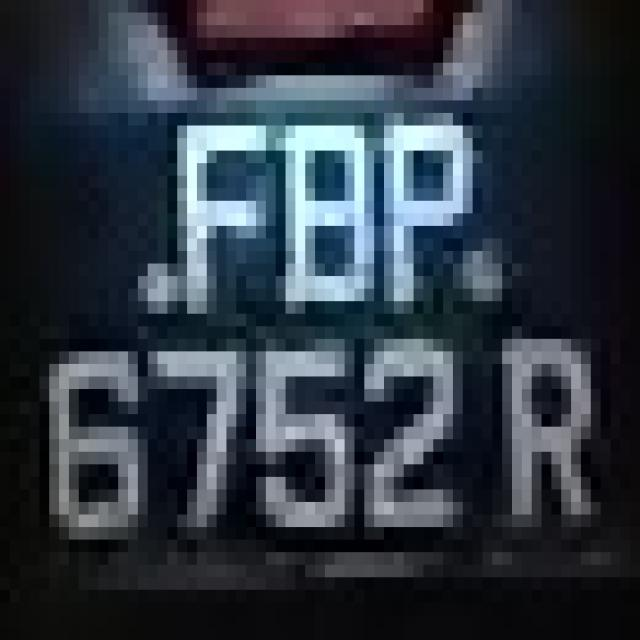2: (334, 314, 472, 564)
5: (236, 326, 354, 540)
6: (19, 314, 158, 552)
7: (108, 314, 266, 527)
B: (246, 113, 374, 351)
F: (157, 100, 266, 327)
P: (364, 88, 482, 301)
R: (482, 301, 600, 565)
